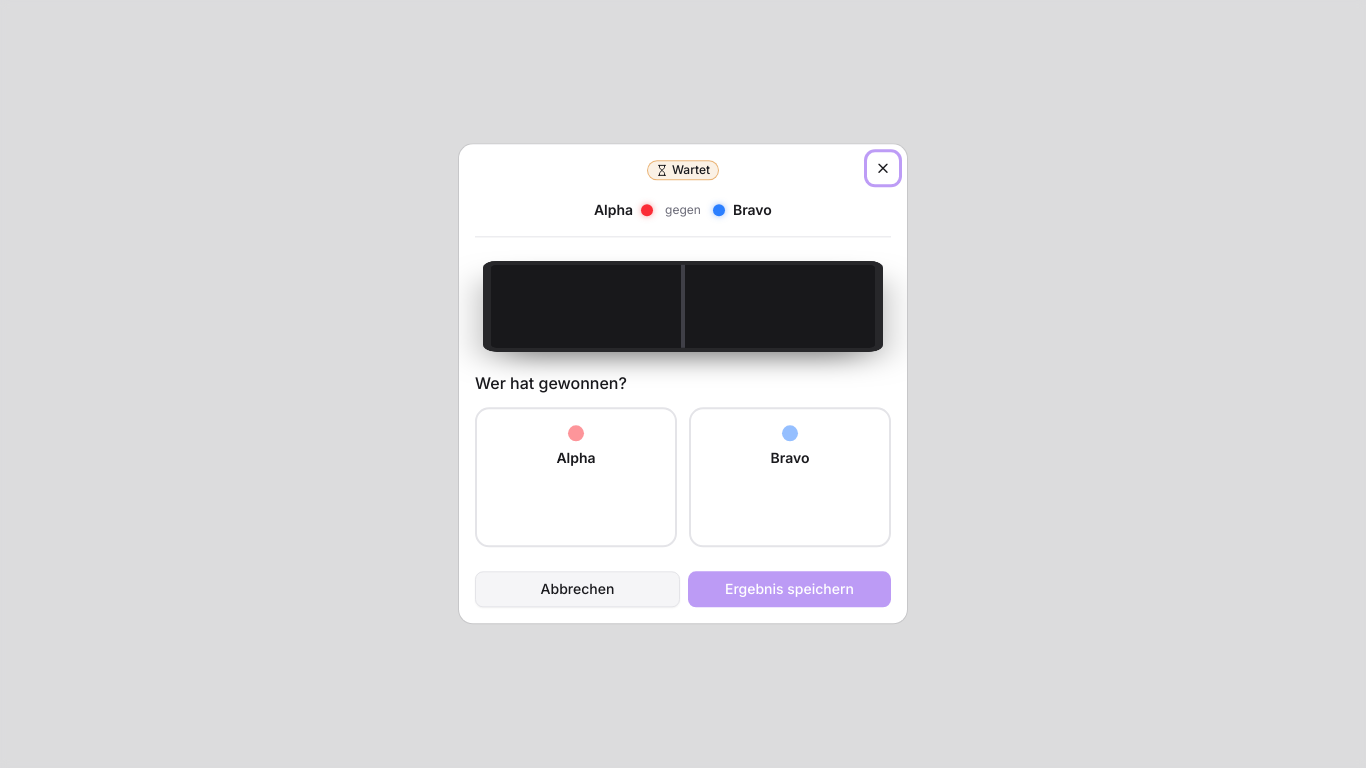
Scenario: MatchResultDialog › uses a generic message for non-Error failures
Click the button "Alpha" at (576, 478), box [475,408,677,548]
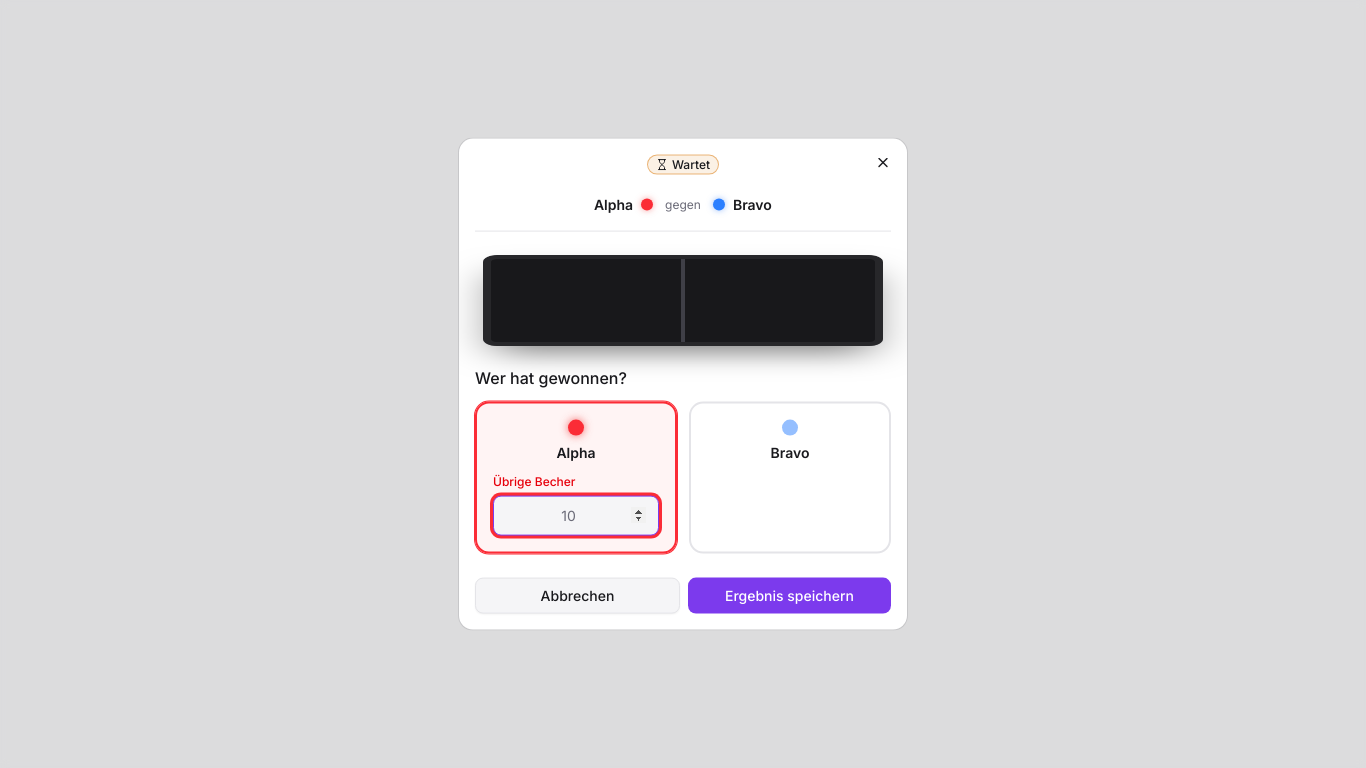
Type "3" into the number field with placeholder "10" at (576, 515), box [493,495,659,535]
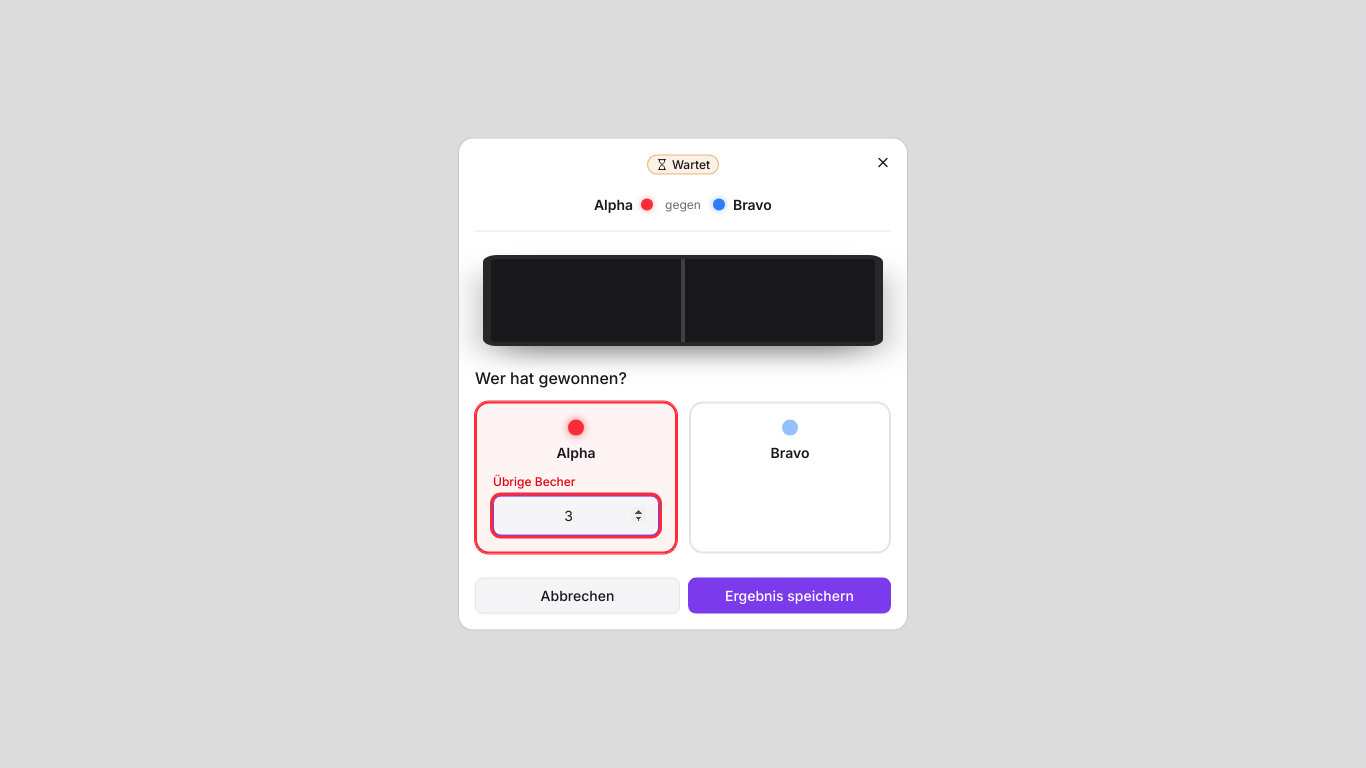
Click the button "Ergebnis speichern" at (790, 595), box [688,577,891,613]
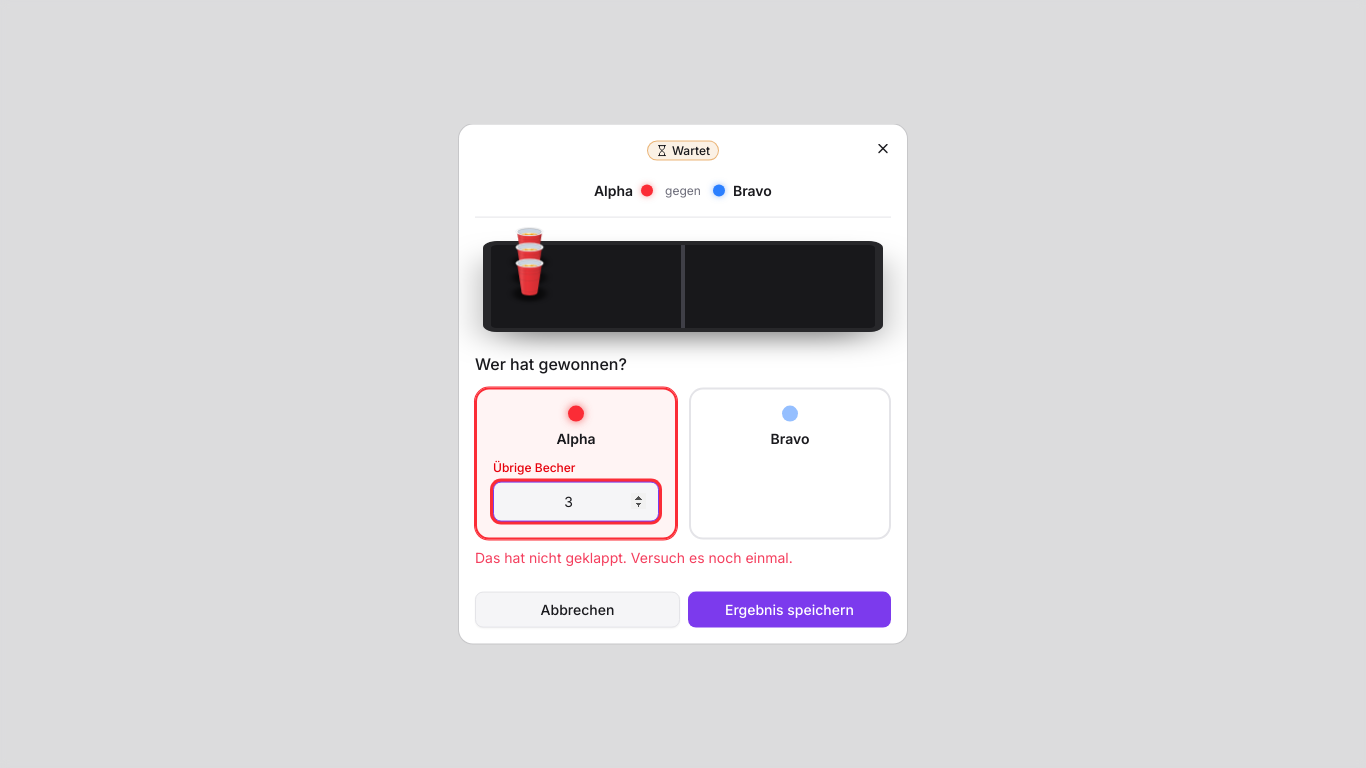
Now the text "Das hat nicht geklappt. Versuch es noch einmal." is shown, box [475,548,793,565]
